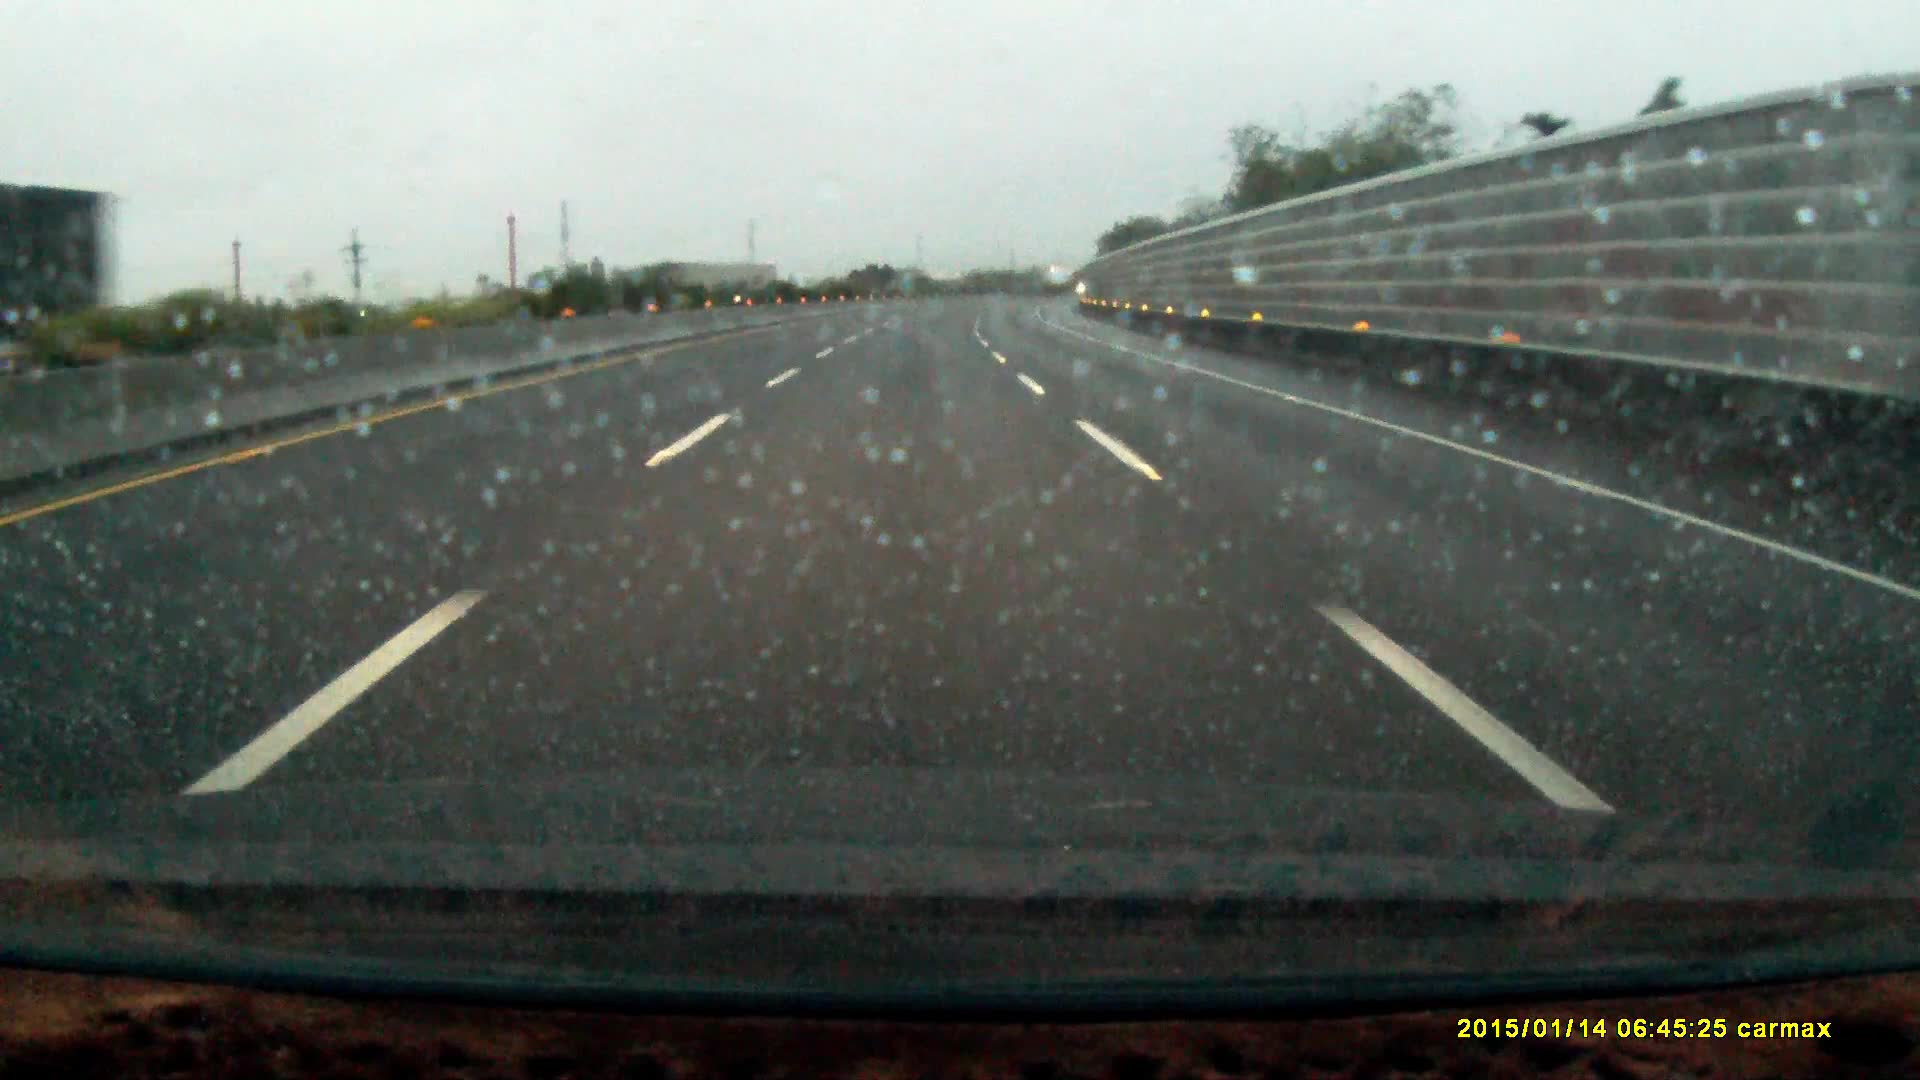vehicle: (1, 190, 115, 373)
